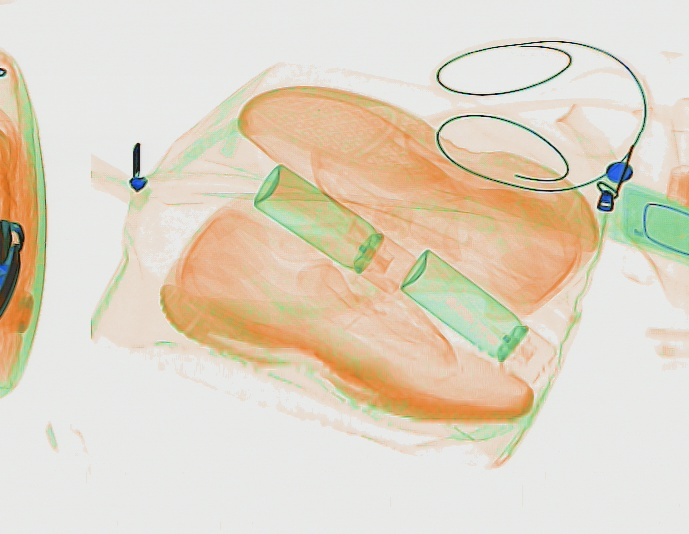pressure: (396, 245, 559, 388), (250, 160, 417, 296)
